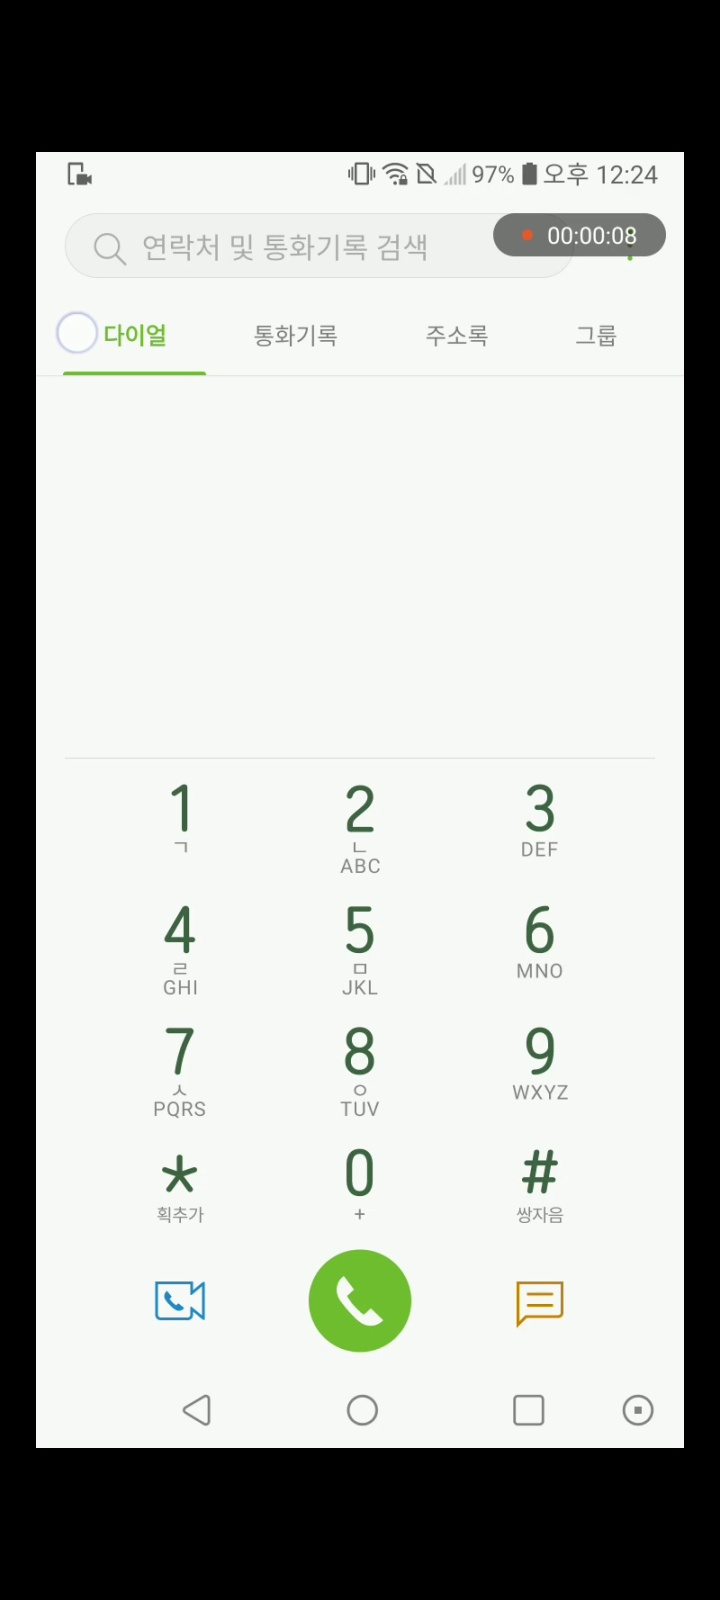Cursor: (55, 310, 100, 355)
